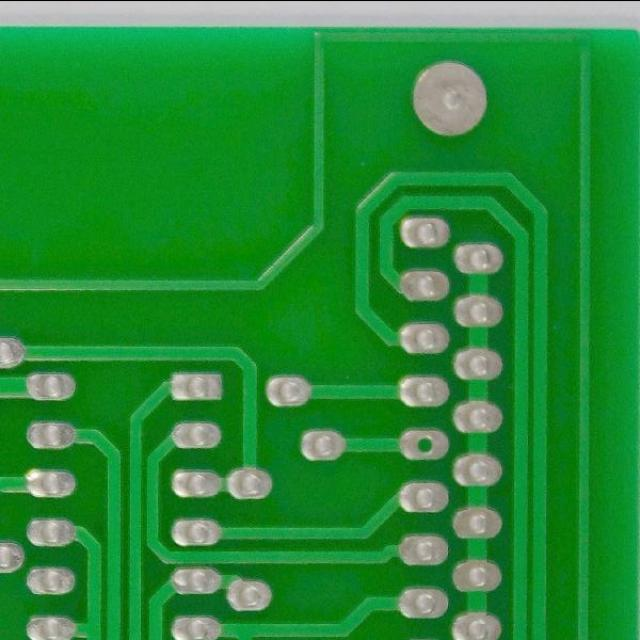Missing_Hole: (392, 424, 456, 465)
